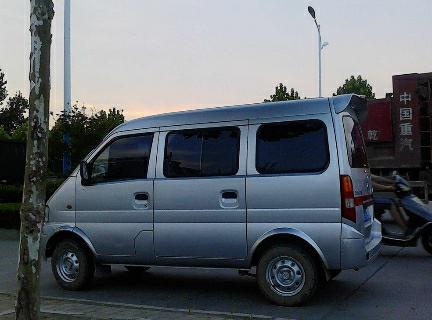东风小康-K17: (30, 95, 384, 300)
